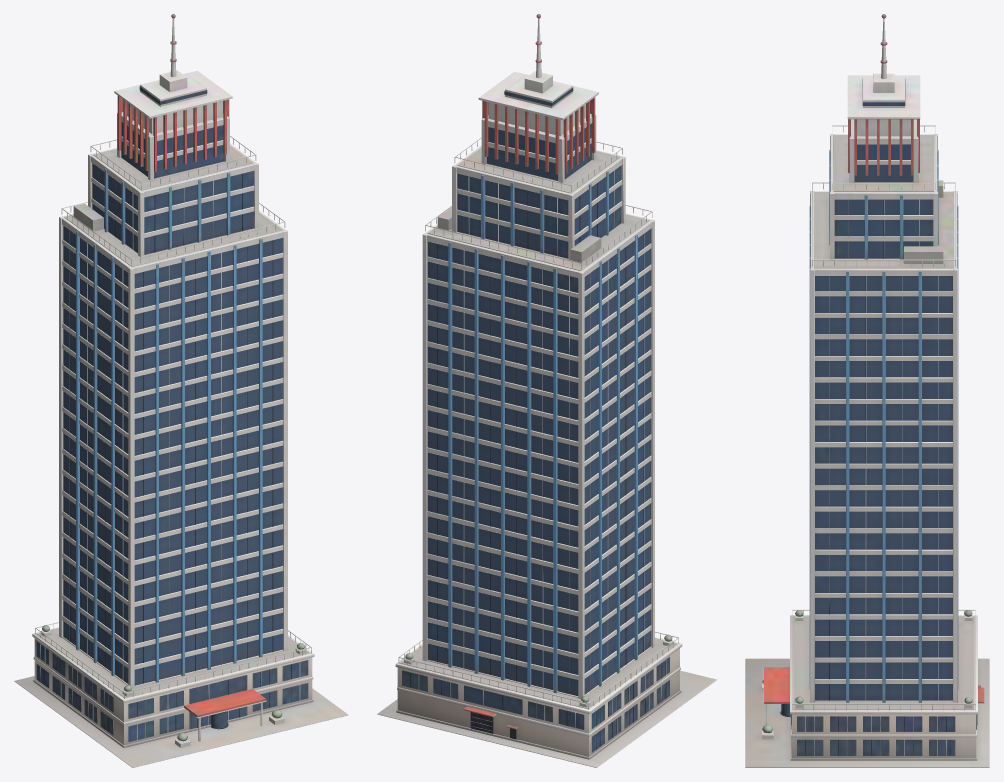
The model's file is skyscraper.glb.
3 views of the same model, side by side, from view 1: azimuth 30°, elevation 25°; view 2: azimuth 150°, elevation 25°; view 3: azimuth 270°, elevation 25° (orthographic). The views are drawn at different scales.
Parts seen in each view (by area): view 1: skyscraper_body; view 2: skyscraper_body; view 3: skyscraper_body.
Boxes of the visible parts, left/top/right/bottom form: skyscraper_body: left=14, top=14, right=348, bottom=767; skyscraper_body: left=377, top=14, right=716, bottom=767; skyscraper_body: left=745, top=14, right=989, bottom=767.
Size of the model in its own units: 39 by 117 by 37.
1 material, 1 textured.
